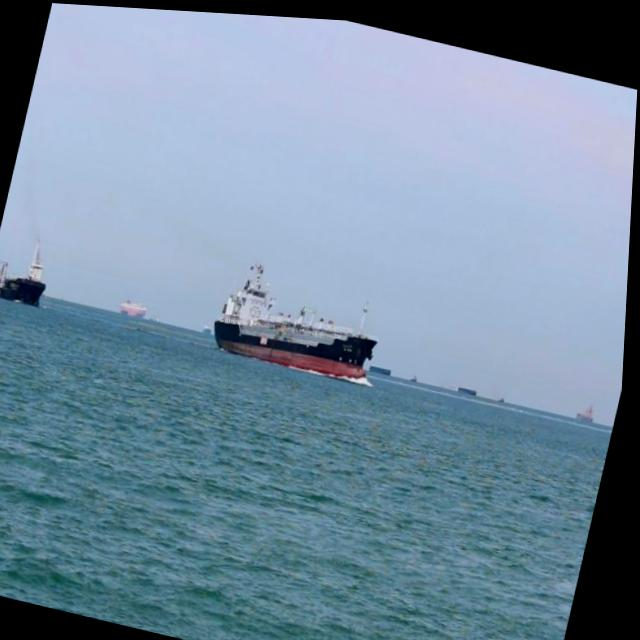ship2: (216, 259, 380, 381)
